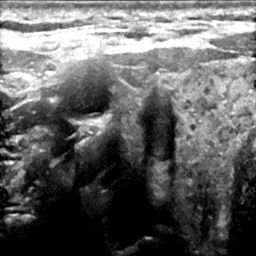mass: (138, 93, 179, 162)
